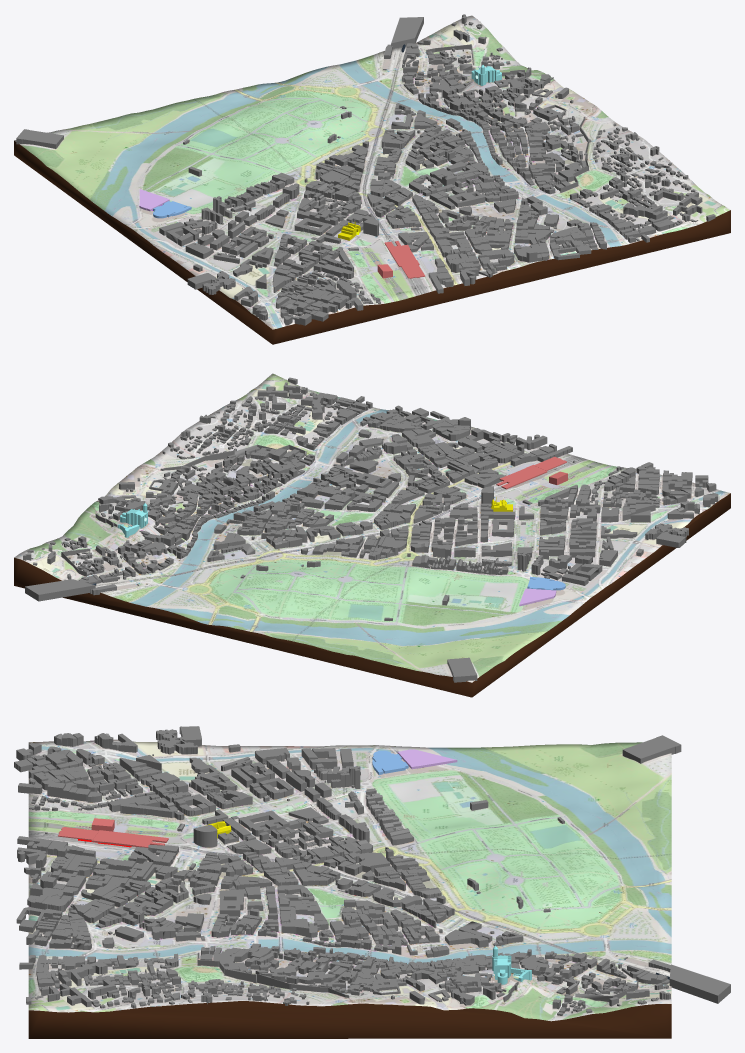
Rendered from gironajs.glb.
The picture shows the model from 3 angles, top to bottom: view 1: azimuth 30°, elevation 25°; view 2: azimuth 150°, elevation 25°; view 3: azimuth 270°, elevation 25°; orthographic projection. The views are drawn at different scales.
Parts seen in each view (by area): view 1: Terrain, Edificis_generic, Estacio_roof, Final_loop; view 2: Terrain, Edificis_generic, Final_loop, Estacio_roof, Catedral; view 3: Terrain, Edificis_generic, Final_loop, Estacio_roof, Catedral, Auditori, Pavello_firal.
Part boxes in pixels (x1,y1,x2,y2): Terrain: (14,15,730,344); Edificis_generic: (16,14,715,325); Estacio_roof: (384,241,425,278); Final_loop: (391,17,423,48); Terrain: (14,373,730,697); Edificis_generic: (23,377,718,682); Final_loop: (25,579,95,601); Estacio_roof: (496,456,566,489); Catedral: (117,503,147,537); Terrain: (28,739,671,1038); Edificis_generic: (14,726,681,1015); Final_loop: (669,964,730,1003); Estacio_roof: (58,827,168,847); Catedral: (492,945,531,984); Auditori: (397,749,457,769); Pavello_firal: (372,750,408,774).
Size of the model in its own units: 1576 by 145 by 1655.
16 materials, 1 textured.
